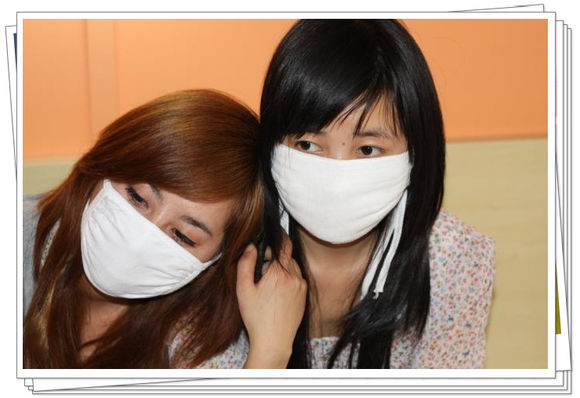face_mask: (277, 87, 410, 241), (81, 166, 232, 287)
